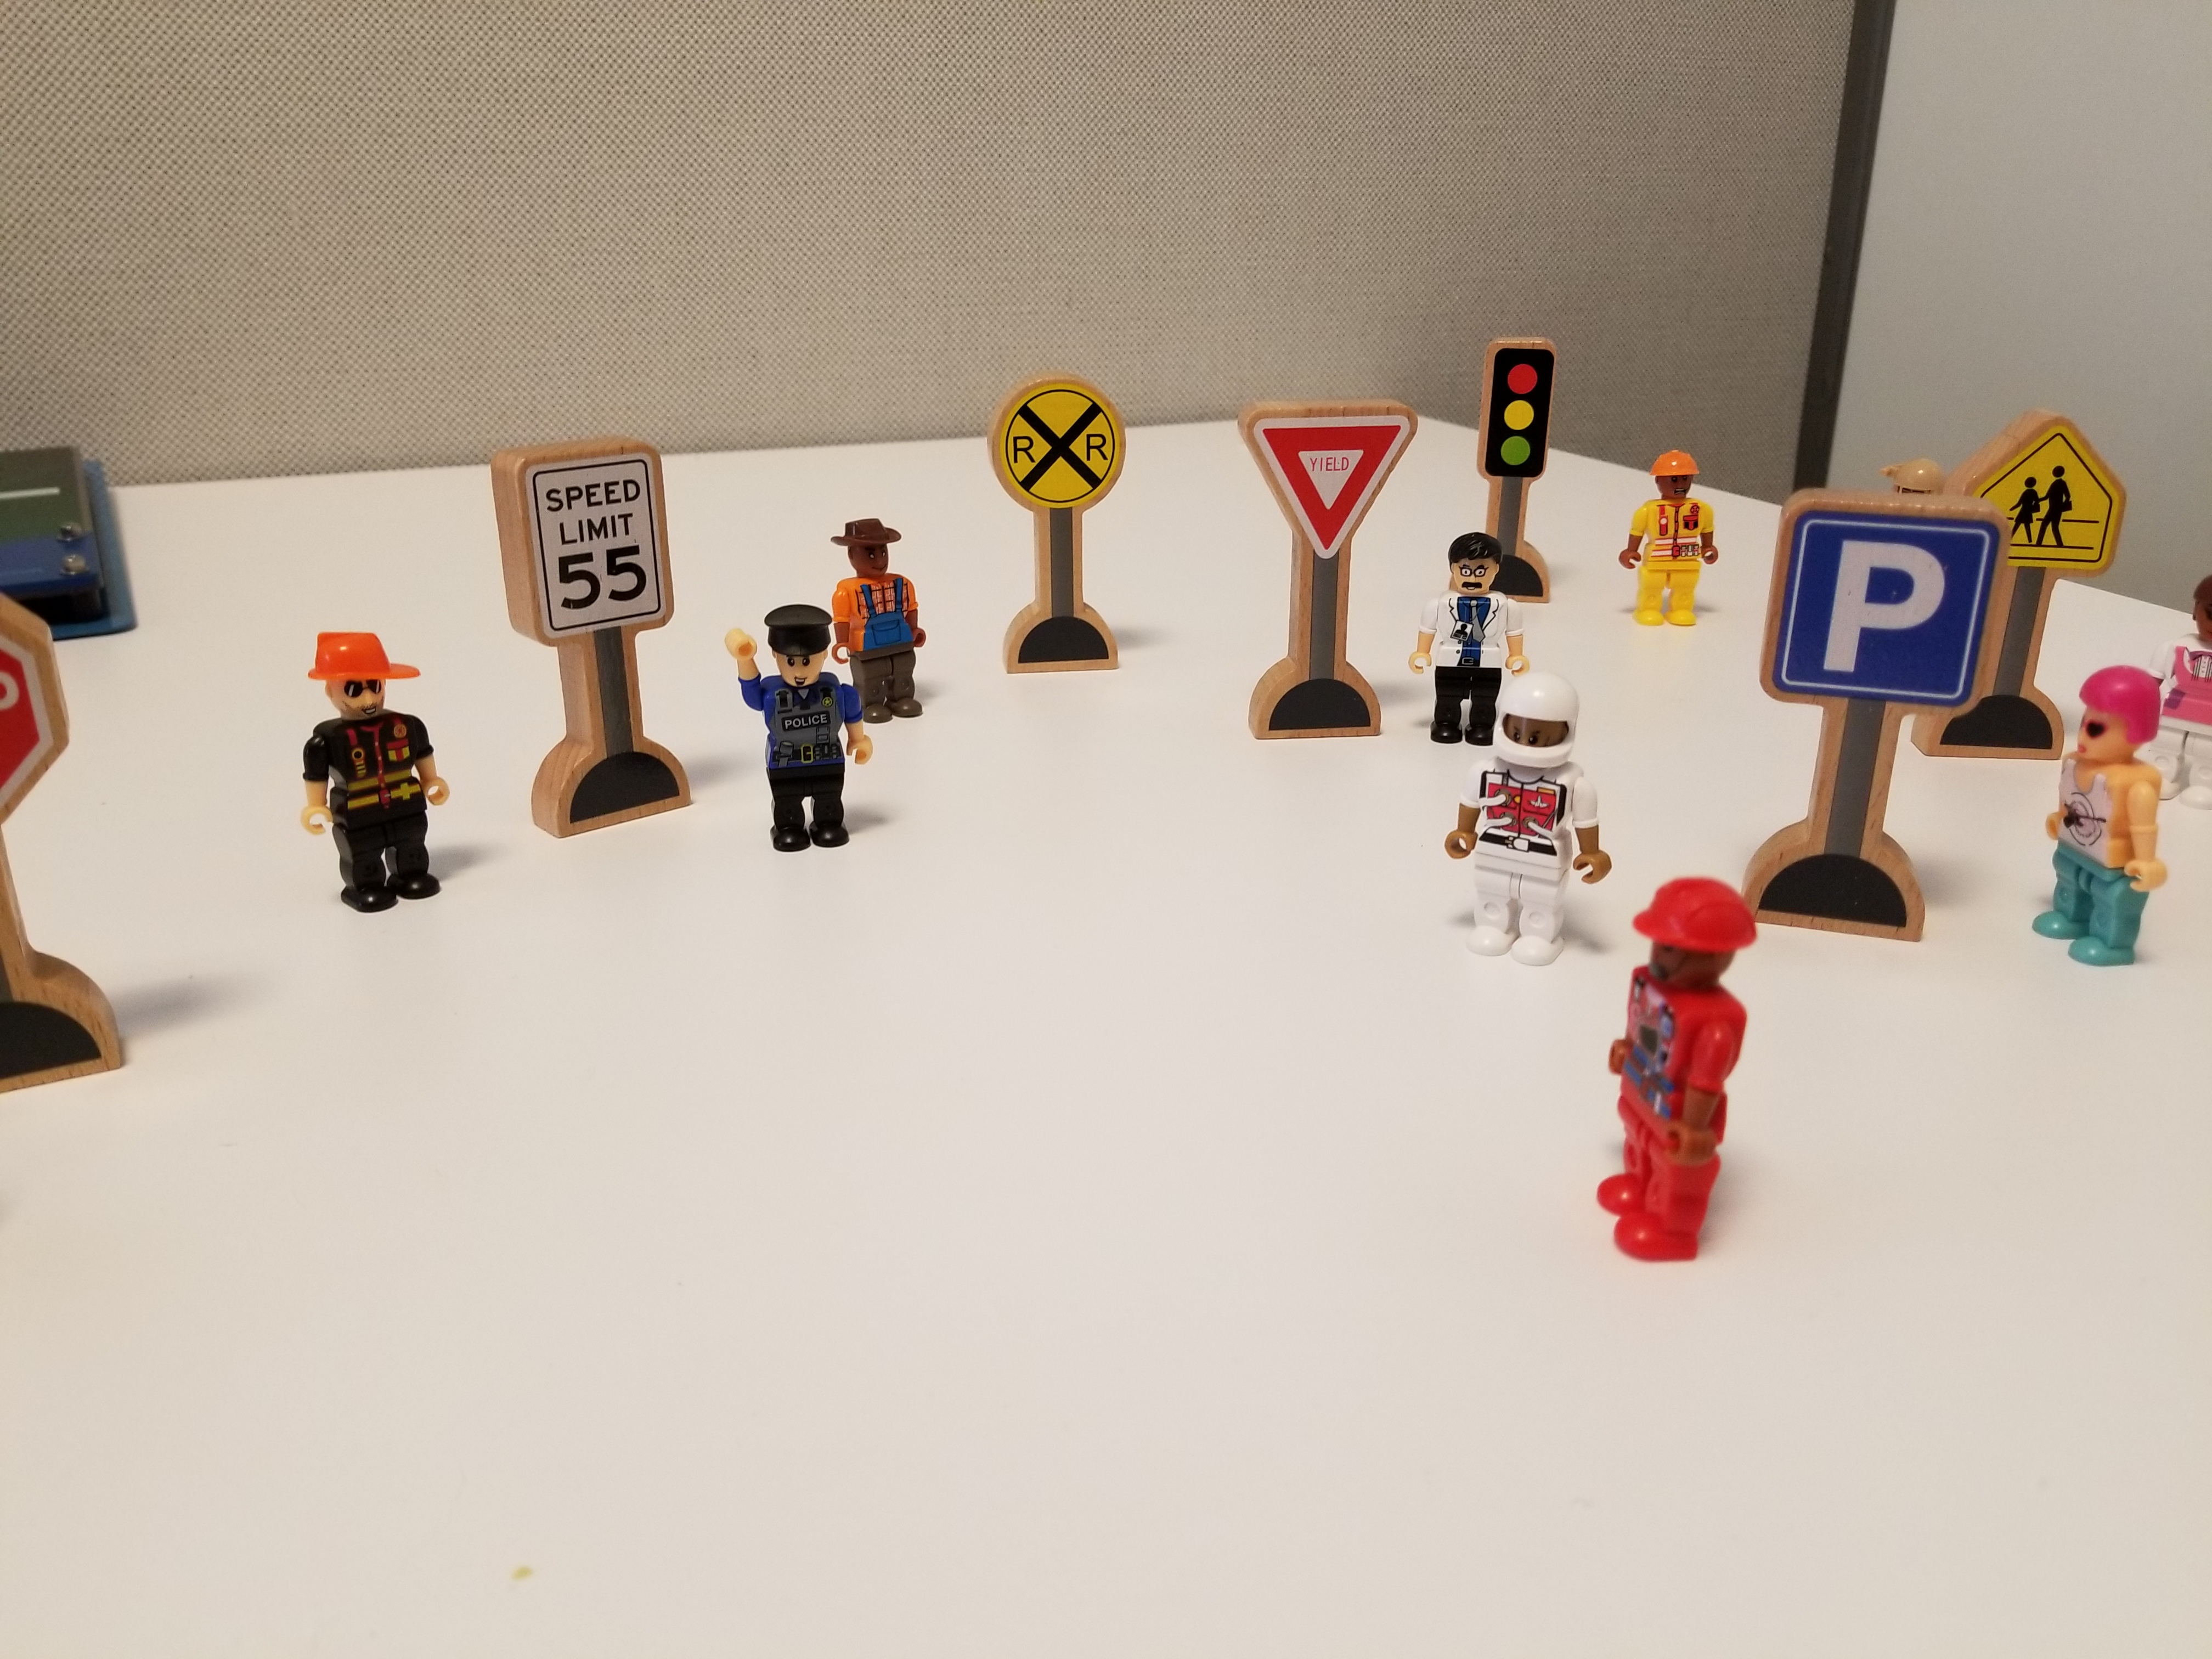Parking: (1763, 466, 2002, 907)
Pedestrian crossing: (1996, 398, 2134, 640)
Railroad Crossing: (960, 359, 1175, 710)
Speed limit 55: (471, 433, 712, 817)
Traffic Light: (1463, 311, 1564, 528)
Yield: (1217, 376, 1419, 756)
person: (1612, 866, 1792, 1318), (260, 607, 484, 927), (1447, 666, 1612, 989), (2042, 659, 2191, 991), (721, 607, 879, 861), (824, 488, 947, 725), (1406, 526, 1533, 714), (1603, 436, 1726, 627)
